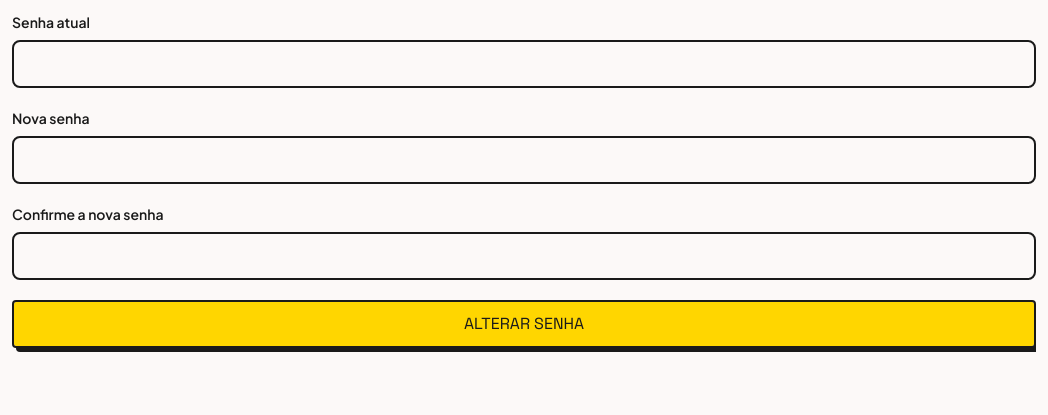
exibe senha atual incorreta, permite corrigir e limpa senhas após sucesso
The image size is (1048, 415).
Type "senha-atual-123" into the password field labelled "Senha atual" at (524, 64), box [12,40,1036,88]
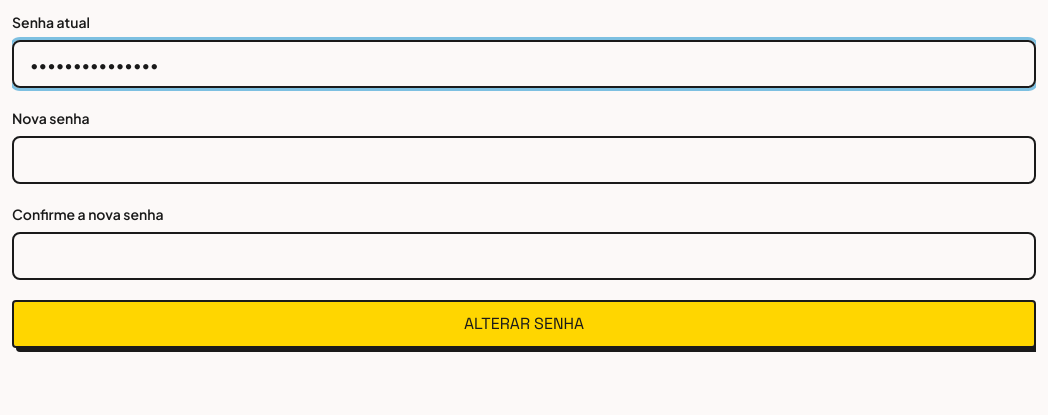
Type "senha-nova-123" into the password field labelled "Nova senha" at (524, 160), box [12,136,1036,184]
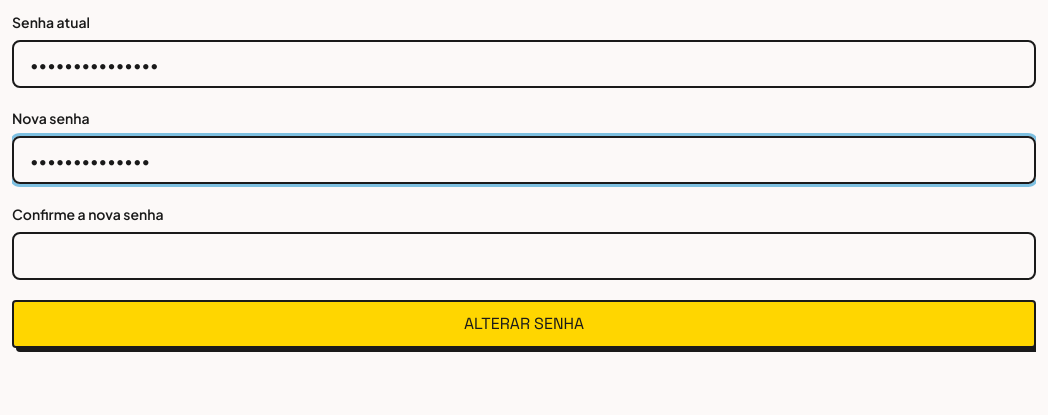
Type "senha-nova-123" into the password field labelled "Confirme a nova senha" at (524, 256), box [12,232,1036,280]
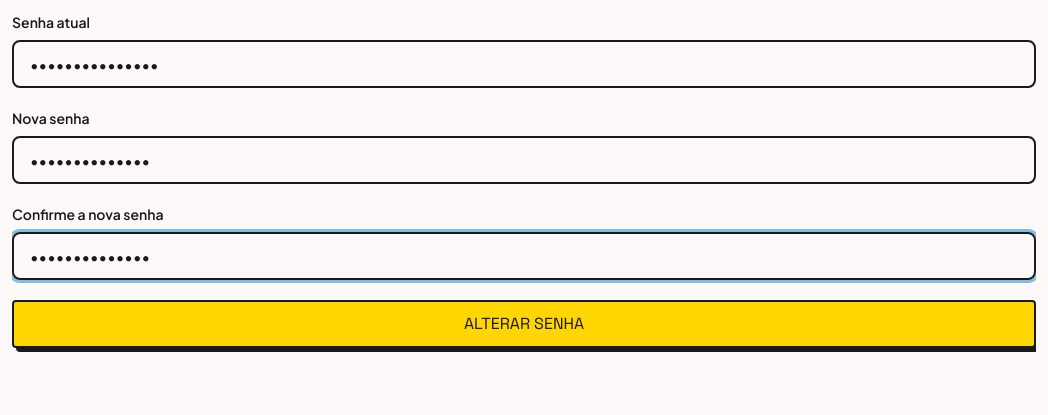
Click the button "Alterar senha" at (524, 324), box [12,300,1036,348]
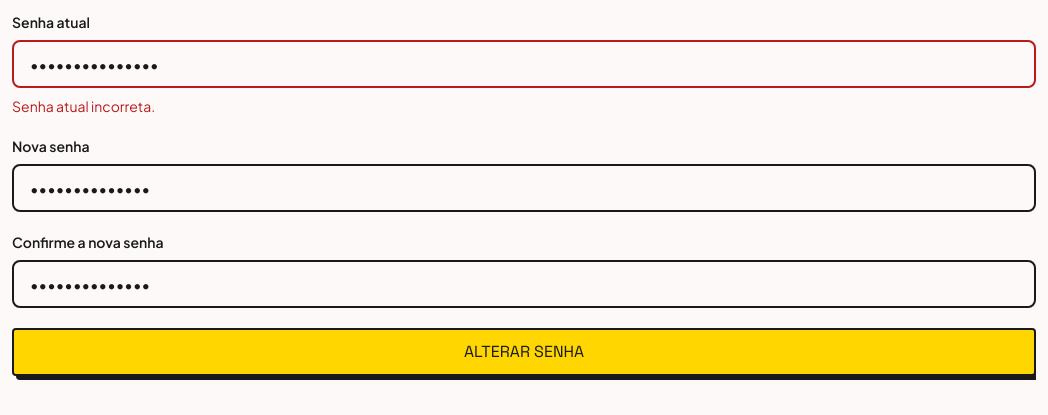
Check: the text "Senha atual incorreta." is shown, box [12,97,155,115]
Type "senha-correta-123" into the password field labelled "Senha atual" at (524, 64), box [12,40,1036,88]
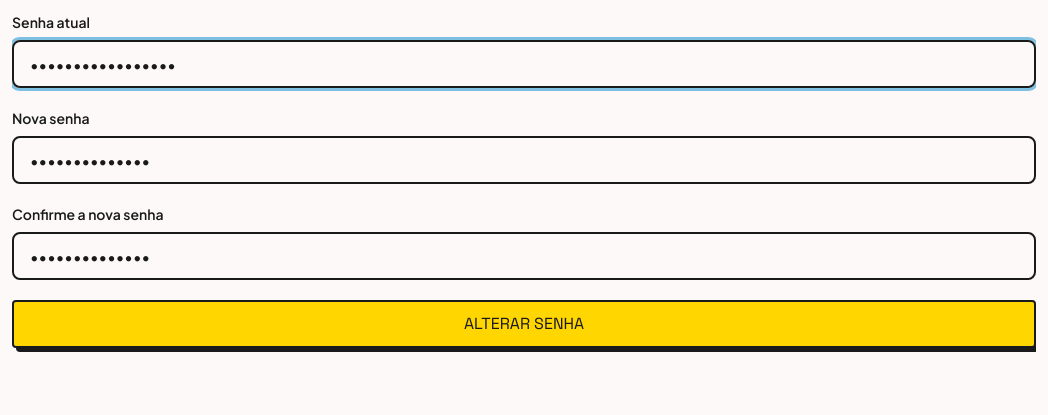
Click the button "Alterar senha" at (524, 324), box [12,300,1036,348]
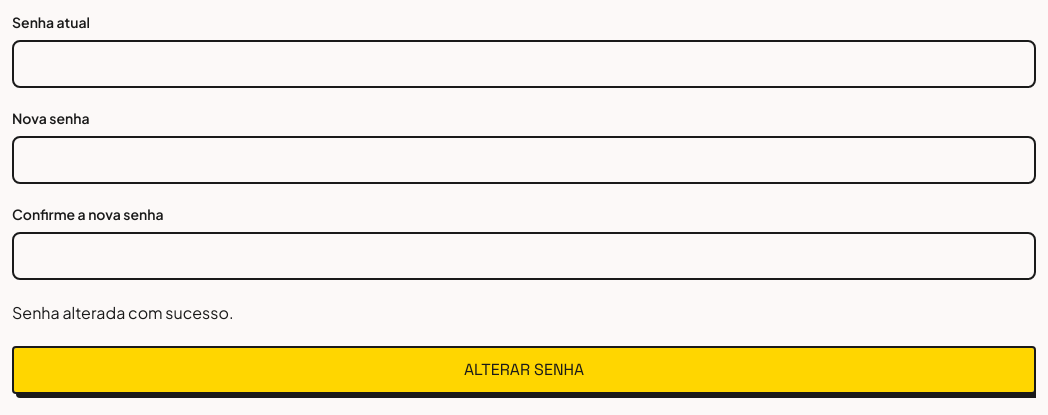
Check: the message reads "Senha alterada com sucesso.", box [12,302,234,323]
Check: the password field labelled "Nova senha" is empty, box [12,136,1036,184]
Check: the password field labelled "Confirme a nova senha" is empty, box [12,232,1036,280]
